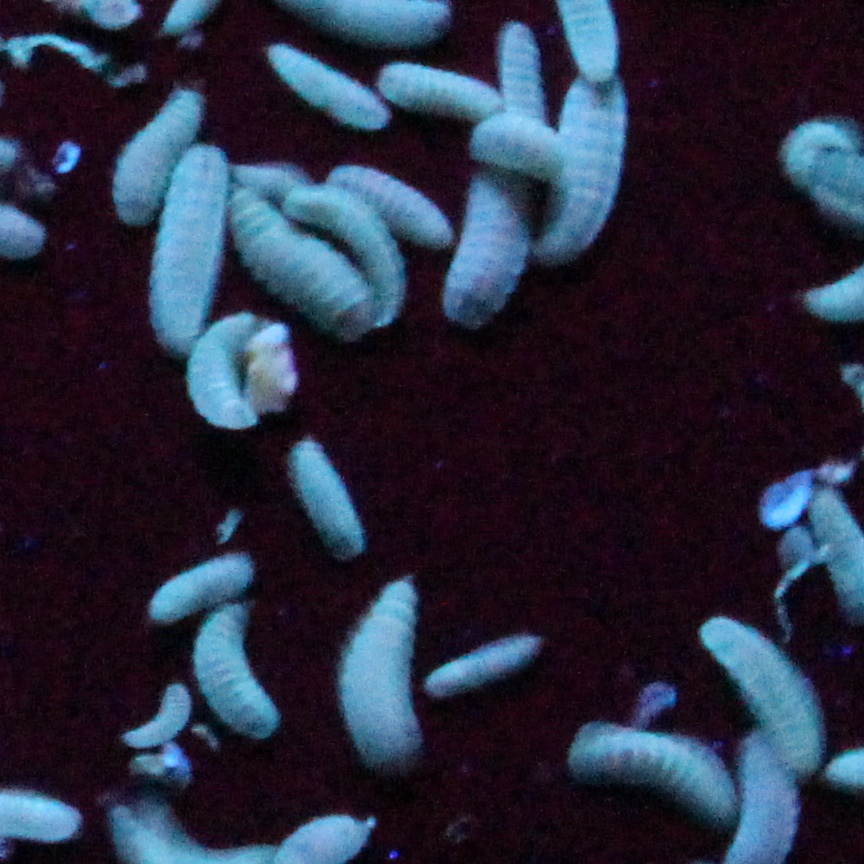larve: (229, 182, 364, 326), (698, 617, 816, 774), (561, 710, 726, 822), (287, 184, 408, 316), (346, 581, 427, 768), (151, 139, 223, 346), (440, 178, 533, 336), (540, 98, 625, 265), (195, 602, 285, 743), (113, 86, 202, 224), (289, 432, 365, 557), (327, 158, 441, 241), (267, 43, 374, 126), (187, 326, 263, 440), (150, 544, 251, 619), (378, 60, 494, 115), (433, 636, 539, 696), (470, 119, 564, 177), (129, 679, 189, 753), (499, 23, 540, 117)
